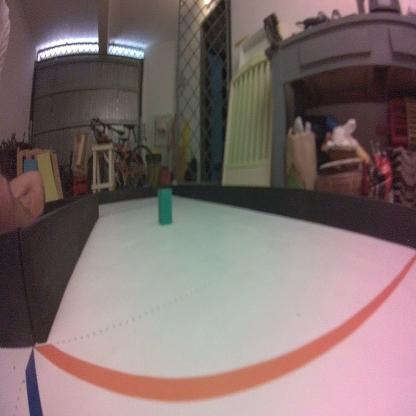green: (156, 186, 172, 227)
